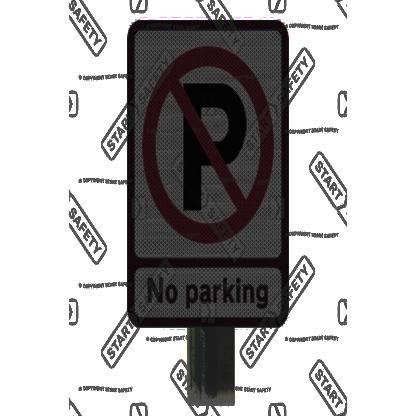No parking: (140, 46, 270, 240)
